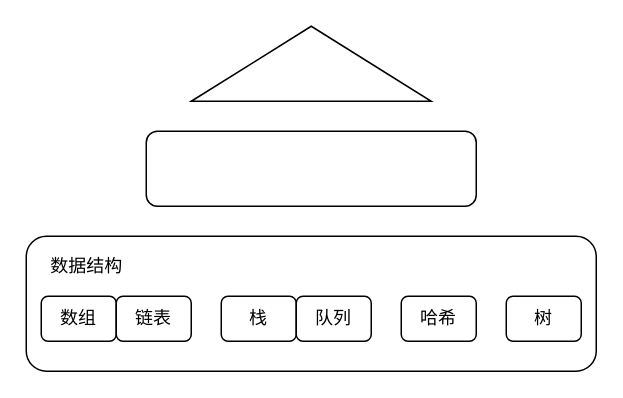
This 623x398 diagram has some shape labels left out. Here are the shapes that lost their labels. From the top down, the centre of each, then its label:
At point 310,63: "功能".
At point 310,168: "算法".
